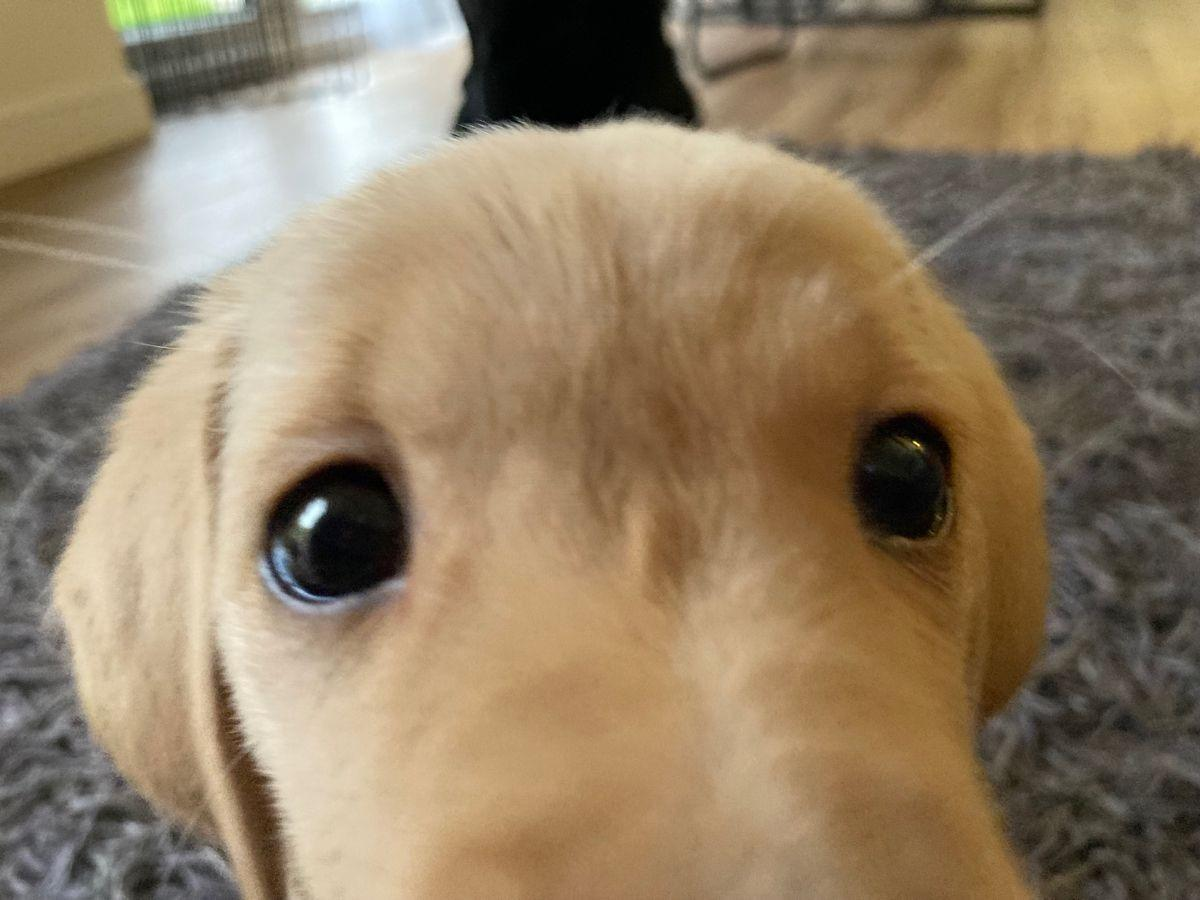puppy-dog: (45, 108, 1059, 900)
